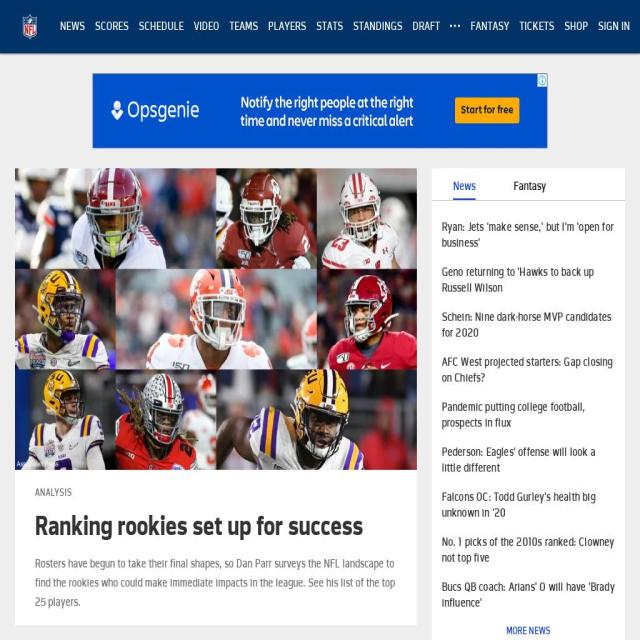button: (15, 168, 417, 625), (514, 175, 547, 198), (506, 624, 550, 638), (453, 175, 476, 200), (20, 13, 40, 40)
heading: (35, 510, 397, 541)
iframe: (92, 74, 548, 148)
image: (15, 168, 417, 470), (20, 13, 40, 40)
link: (35, 553, 397, 612), (441, 536, 615, 564), (441, 581, 615, 609), (441, 221, 614, 249), (441, 356, 613, 384), (441, 311, 611, 339), (441, 446, 596, 474), (441, 491, 596, 519), (442, 266, 594, 294), (441, 401, 585, 429), (35, 487, 397, 498)
text: (353, 19, 403, 33), (138, 19, 184, 33), (470, 19, 510, 33), (268, 19, 306, 33), (95, 19, 129, 33), (520, 19, 554, 33), (598, 19, 630, 33), (230, 19, 258, 33), (412, 19, 440, 33), (316, 19, 343, 33), (60, 19, 85, 33), (194, 19, 219, 33), (564, 19, 588, 33)
